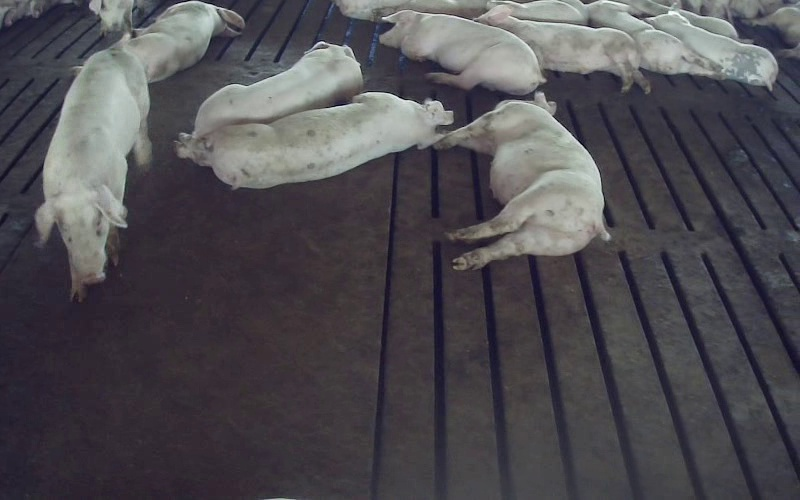pig: (434, 92, 609, 269), (35, 48, 150, 301), (175, 92, 452, 188), (192, 42, 362, 136), (477, 5, 650, 92), (380, 10, 545, 94), (588, 0, 721, 77), (649, 12, 777, 90), (124, 0, 244, 82)
